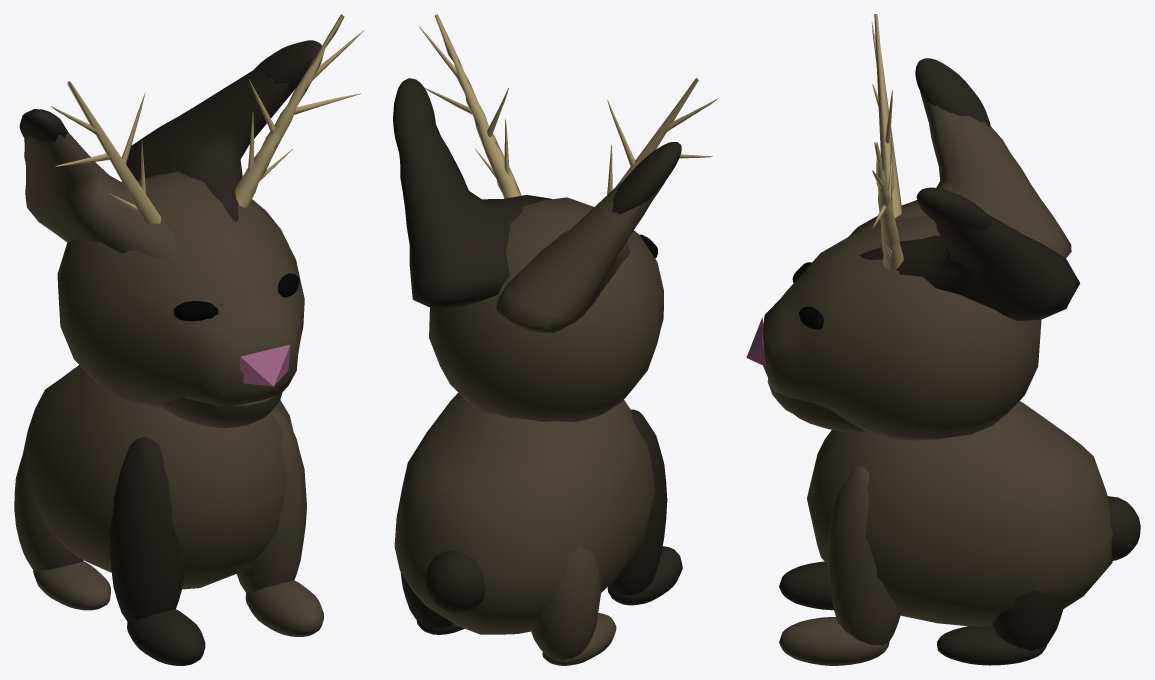
Rendered from Jackalope.fbx.
3 views of the same model, side by side, from view 1: azimuth 30°, elevation 25°; view 2: azimuth 150°, elevation 25°; view 3: azimuth 270°, elevation 25° (orthographic). The views are drawn at different scales.
Visible parts, largest first — view 1: Object075, Object070, Object082, Object084, Object071, Object068, Object072, Object069, Object080, Object079, Object087, Object067 (+5 smaller); view 2: Object070, Object075, Object084, Object082, Object080, Object071, Object081, Object083, Object085, Object087, Object072, Object079 (+2 smaller); view 3: Object070, Object075, Object084, Object082, Object068, Object069, Object074, Object073, Object083, Object085, Object072, Object092 (+3 smaller).
Boxes of the visible parts, x1,y1,x2,y2 form: Object075: (57, 171, 304, 407); Object070: (23, 365, 293, 589); Object082: (24, 132, 175, 263); Object084: (122, 68, 298, 305); Object071: (109, 436, 184, 621); Object068: (237, 410, 306, 592); Object072: (127, 609, 205, 665); Object069: (245, 580, 323, 636); Object080: (14, 450, 83, 571); Object079: (33, 561, 110, 610); Object087: (235, 14, 344, 207); Object067: (160, 392, 282, 428); Object070: (394, 393, 655, 634); Object075: (429, 197, 663, 421); Object084: (395, 125, 551, 309); Object082: (496, 180, 665, 332); Object080: (530, 547, 601, 659); Object071: (608, 409, 667, 595); Object081: (425, 550, 485, 612); Object083: (612, 142, 681, 214); Object085: (393, 78, 435, 156); Object087: (434, 14, 521, 198); Object072: (607, 546, 682, 605); Object079: (542, 613, 616, 665); Object070: (807, 401, 1112, 626); Object075: (762, 216, 1041, 440); Object084: (796, 214, 1080, 321); Object082: (848, 92, 1071, 258); Object068: (827, 466, 901, 645); Object069: (779, 617, 889, 665); Object074: (992, 590, 1063, 650); Object073: (937, 626, 1047, 665); Object083: (915, 58, 990, 127); Object085: (916, 187, 992, 229); Object072: (779, 561, 833, 610); Object092: (874, 14, 902, 217).
Size of the model in its own units: 6.97 by 12.28 by 7.87.
